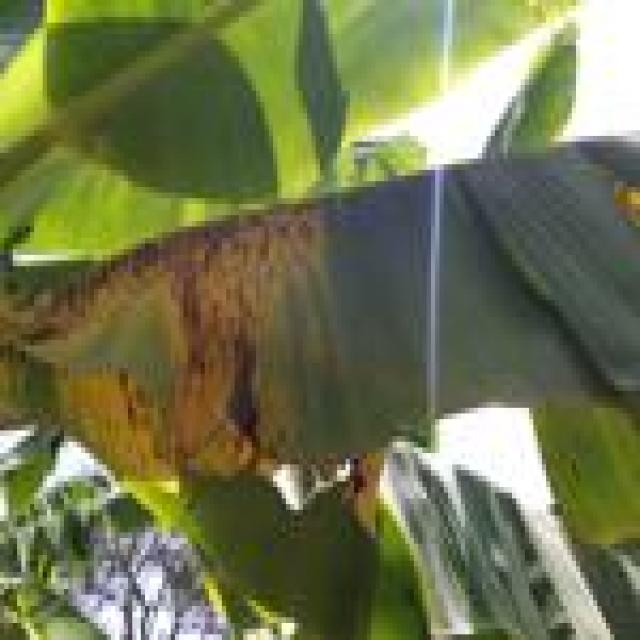Early_rust: (8, 170, 355, 475)
